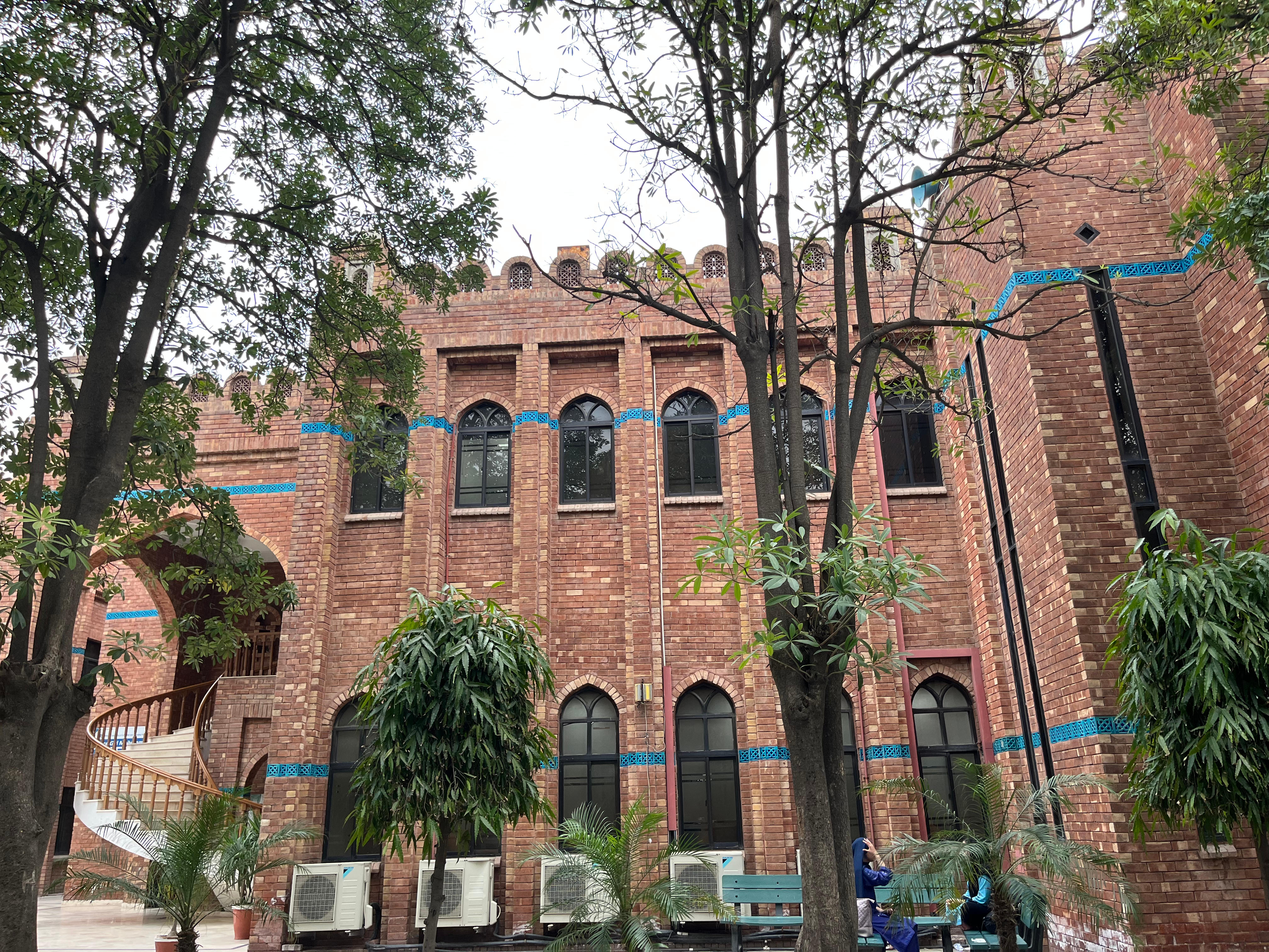Block E: (57, 11, 1269, 944)
